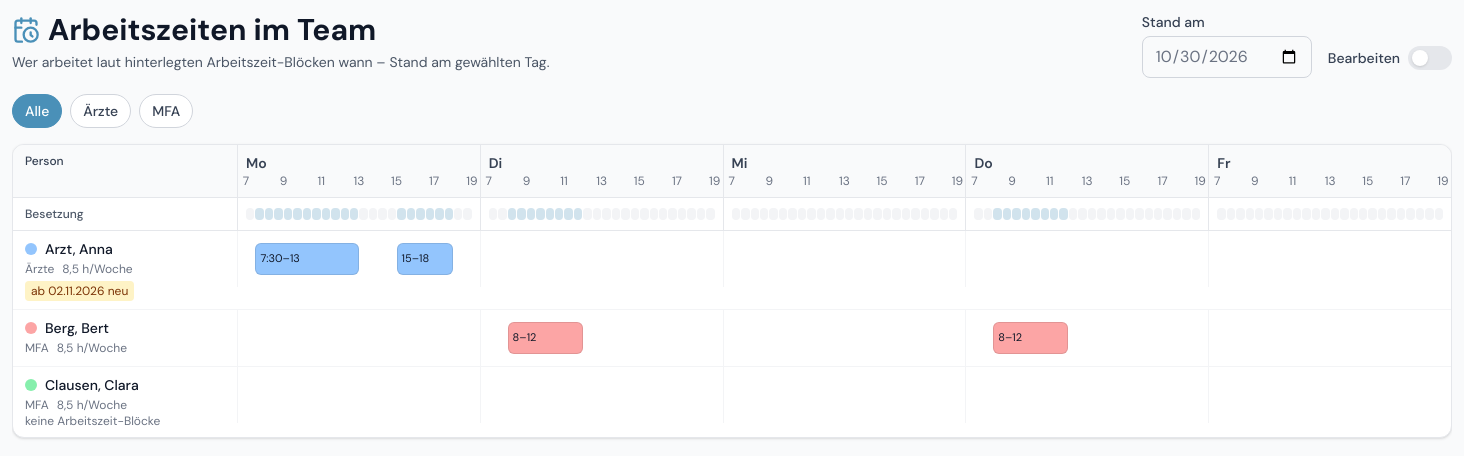
Teamübersicht der Arbeitszeiten › filtert nach Abteilung: Alle / Ärzte / MFA
Check: the text "Arzt, Anna" is shown, box [45,239,113,259]
What coordinates should you click on to do the following:
click the button "MFA"
I would click on:
 (166, 111)
Its box is [139,94,193,128].
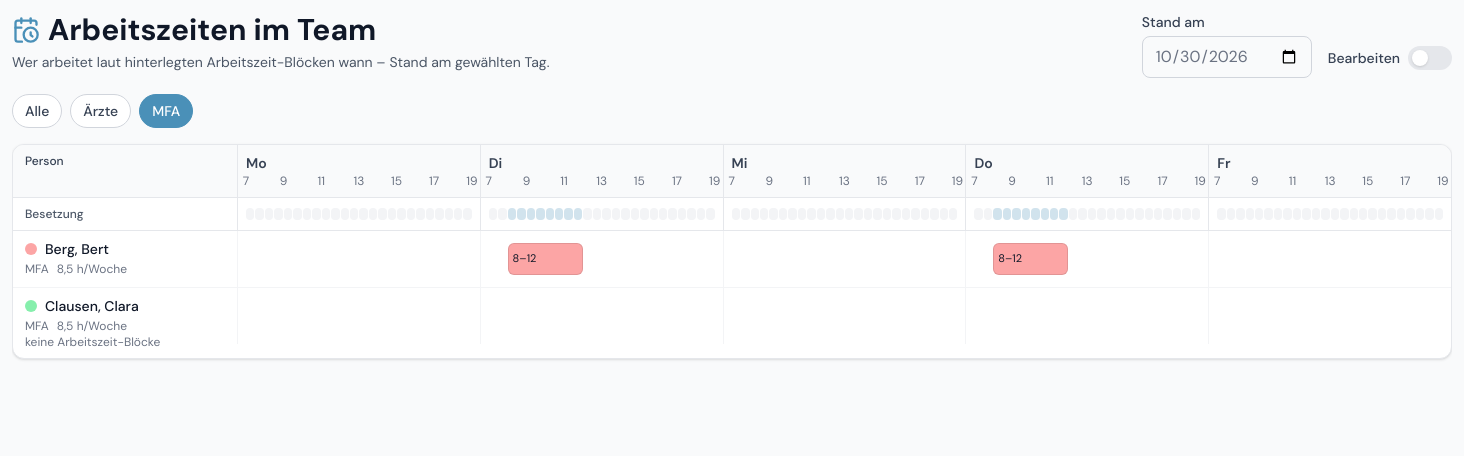
Check: the text "Berg, Bert" is shown, box [45,239,109,259]
Check: the text "Arzt, Anna" is gone
What coordinates should you click on to do the following:
click the button "Alle"
I would click on:
 (37, 111)
Its box is [12,94,62,128].
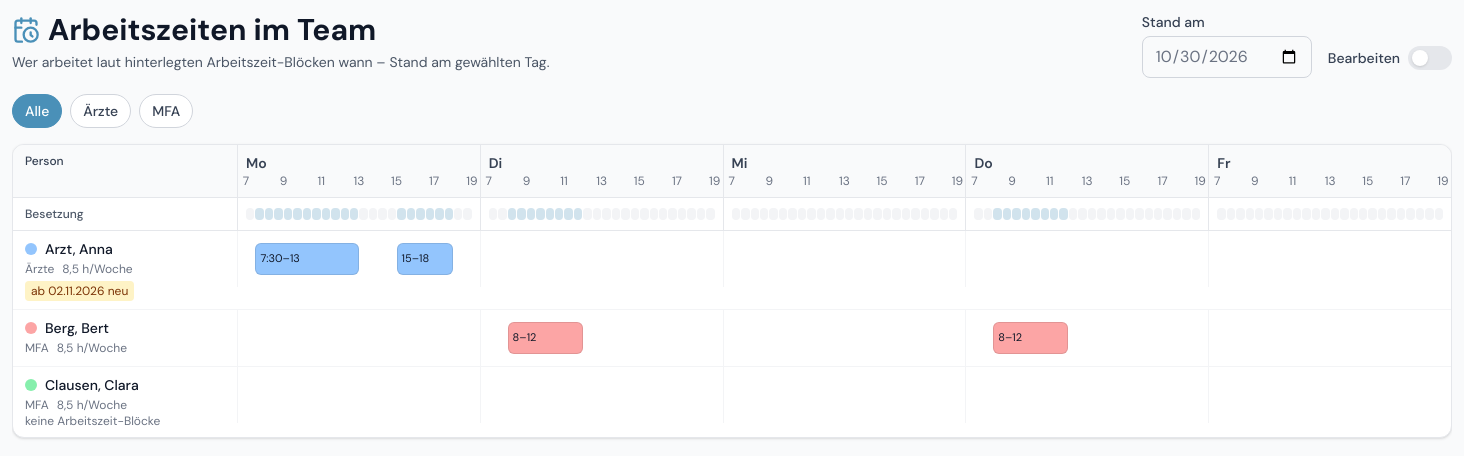
Check: the text "Arzt, Anna" is shown, box [45,239,113,259]
